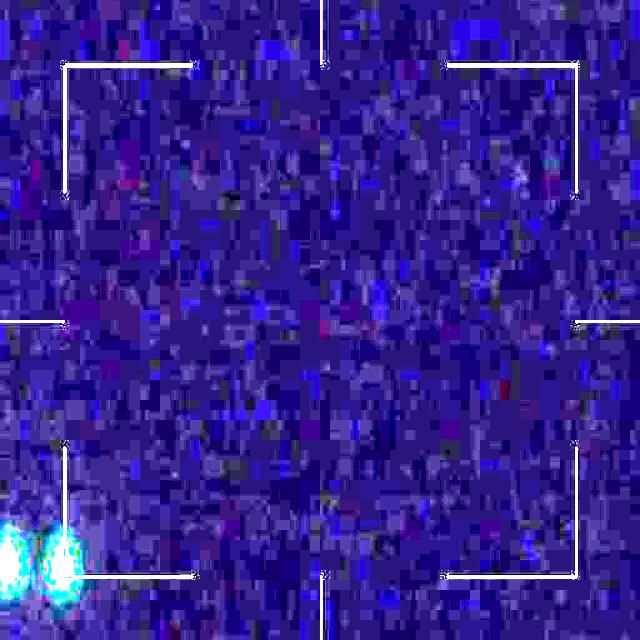bird: (0, 532, 78, 592)
